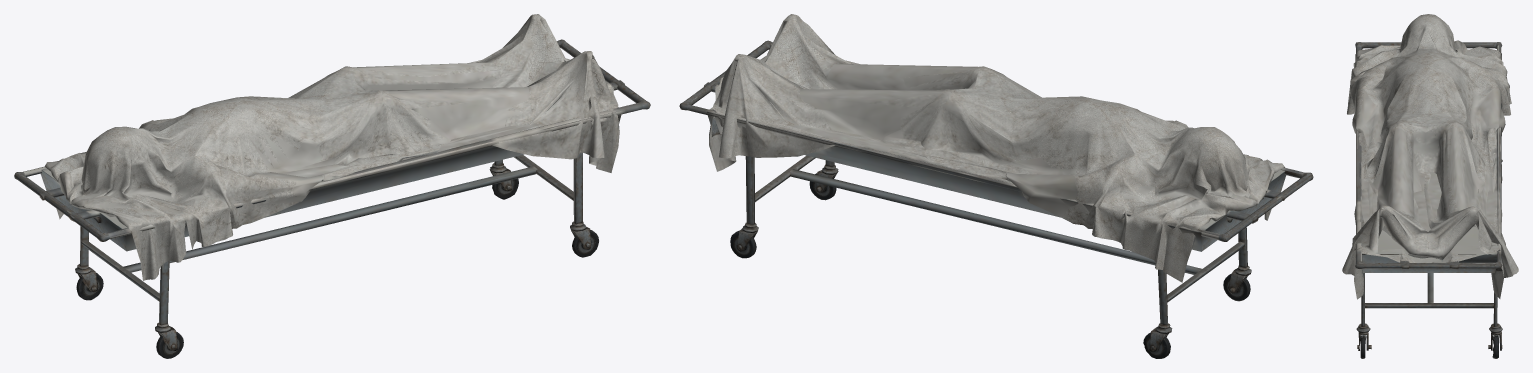
3 renders of one model, left to right at view 1: azimuth 30°, elevation 25°; view 2: azimuth 150°, elevation 25°; view 3: azimuth 270°, elevation 25°, orthographic. The views are drawn at different scales.
Visible parts, largest first — view 1: Mesh_0; view 2: Mesh_0; view 3: Mesh_0.
Boxes of the visible parts, bbox=[...] form: Mesh_0: bbox=[14, 14, 650, 358]; Mesh_0: bbox=[679, 14, 1313, 358]; Mesh_0: bbox=[1342, 14, 1518, 358].
Size of the model in its own units: 95.7 by 33.5 by 31.93.
1 material, 1 textured.
